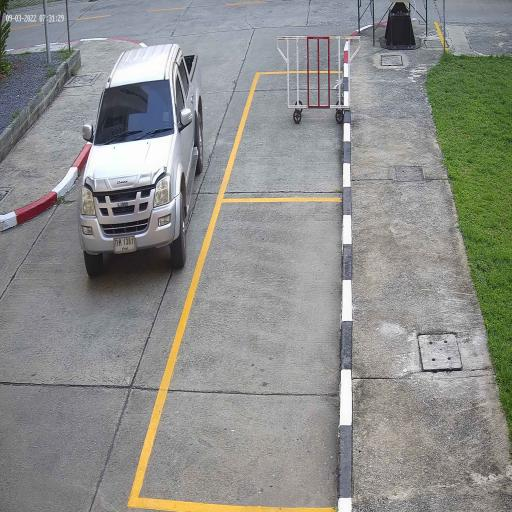car: (76, 42, 204, 280)
